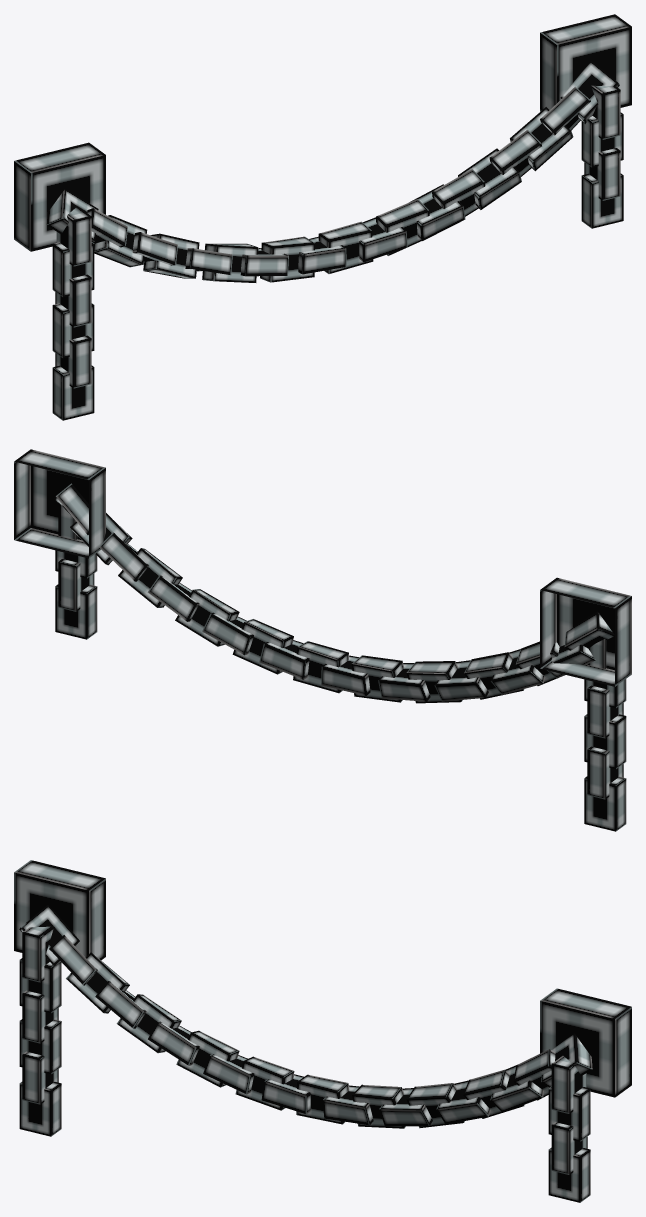
The model's file is deco_winter_chainWall.FBX.
3 renders of one model, top to bottom at view 1: azimuth 30°, elevation 25°; view 2: azimuth 150°, elevation 25°; view 3: azimuth 330°, elevation 25°, orthographic.
Parts seen in each view (by area): view 1: deco_winter_chainWall; view 2: deco_winter_chainWall; view 3: deco_winter_chainWall.
Part boxes in pixels (<box>): deco_winter_chainWall: <box>14,14,631,420</box>; deco_winter_chainWall: <box>14,449,631,831</box>; deco_winter_chainWall: <box>14,860,631,1202</box>.
Size of the model in its own units: 3.43 by 1.32 by 0.3358.
1 material, 1 textured.
